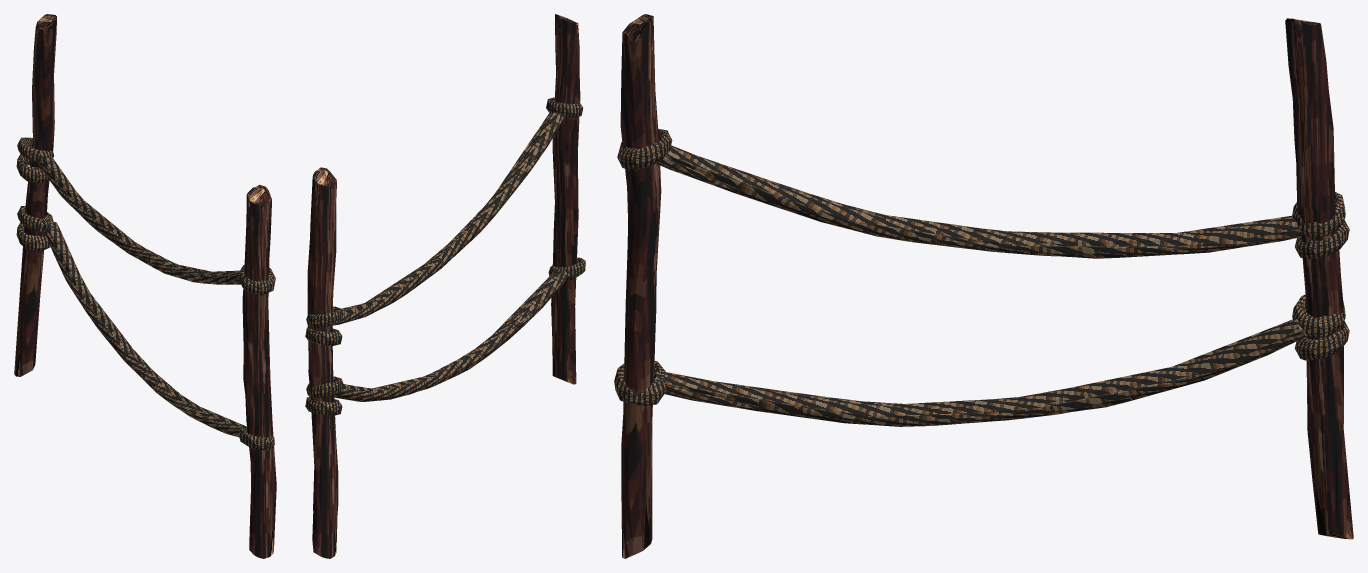
The model's file is cave-fence2.glb.
The picture shows the model from 3 angles, left to right: view 1: azimuth 30°, elevation 25°; view 2: azimuth 150°, elevation 25°; view 3: azimuth 270°, elevation 25°; orthographic projection. The views are drawn at different scales.
Parts seen in each view (by area): view 1: Cylinder.005; view 2: Cylinder.005; view 3: Cylinder.005.
Part boxes in pixels (<box>): Cylinder.005: <box>14,14,276,558</box>; Cylinder.005: <box>305,14,585,558</box>; Cylinder.005: <box>614,14,1353,558</box>.
Size of the model in its own units: 0.178 by 1.57 by 1.91.
Materials: 6 (6 with a texture image).
